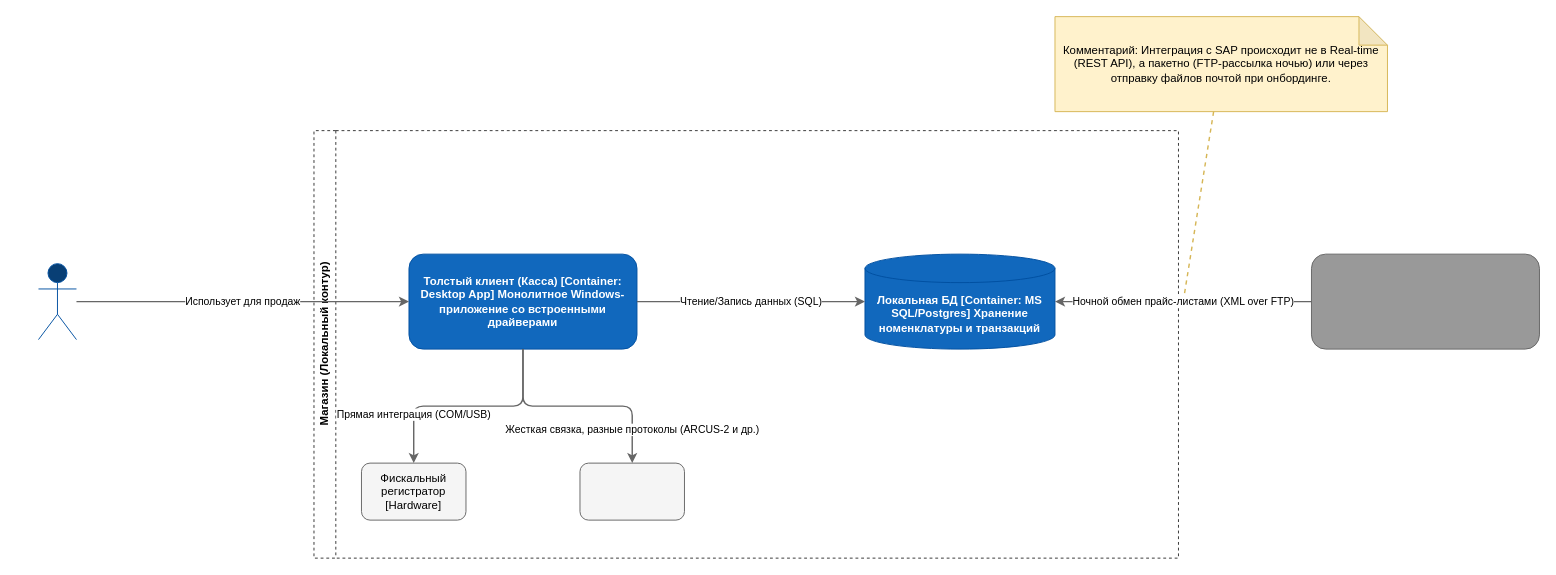
The diagram is 1556 pixels wide and 575 high, and some of its shapes have lost their labels. Here are the shapes that lost their labels. From the top down, the centre of each, then its label:
[57,301]: Кассир [Person]
[1425,301]: SAP ERP [Software System] Учет товаров и финансов (Центральный офис HQ)
[631,491]: Банковский терминал (разные) [Hardware]
